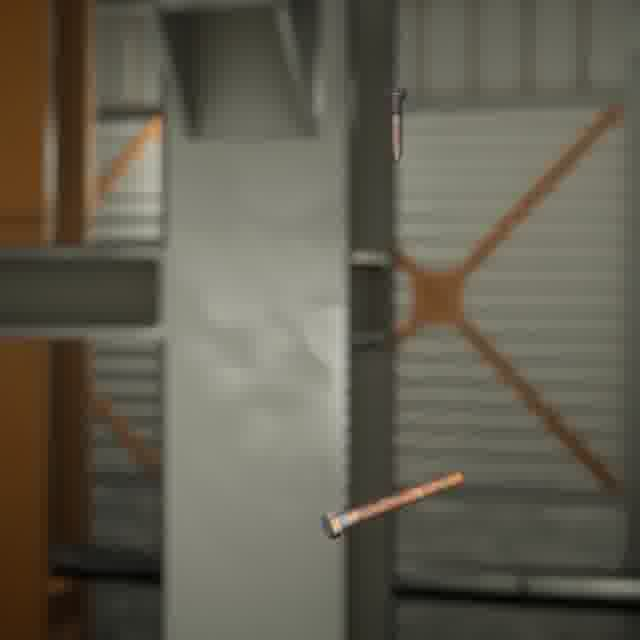bolt: (316, 465, 468, 544), (381, 80, 411, 166)
